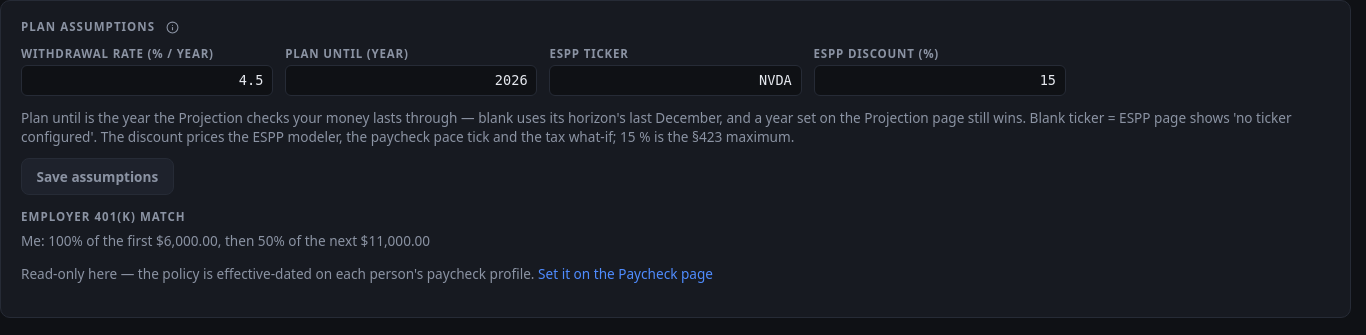
Test case: PlanAssumptionsCard › leaves a stored year alone when its box is untouched — even one the calendar has caught up with
Expected: the field labelled "Plan until (year)" is shown, [285, 65, 537, 96]
Replace the text in the field labelled "Withdrawal rate (% / year)" with "3.5" at (147, 80), box [21, 65, 273, 96]
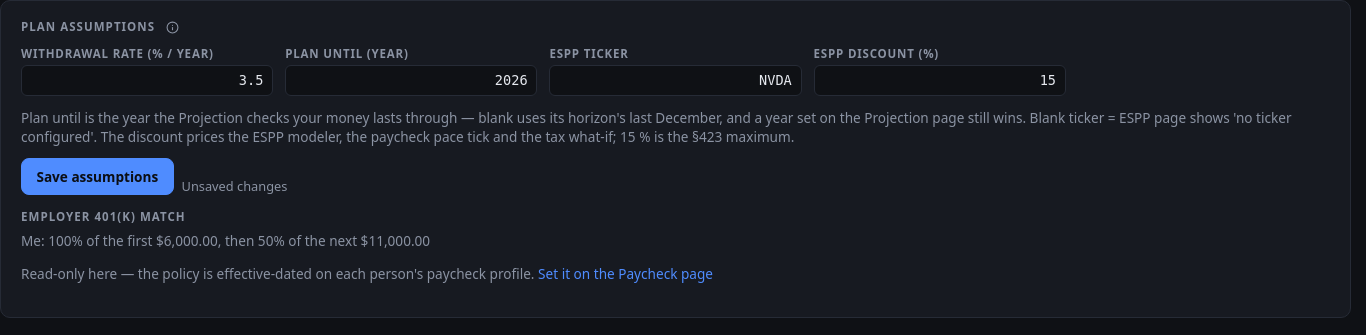
Click the button "Save assumptions" at (97, 176), box [21, 158, 174, 195]
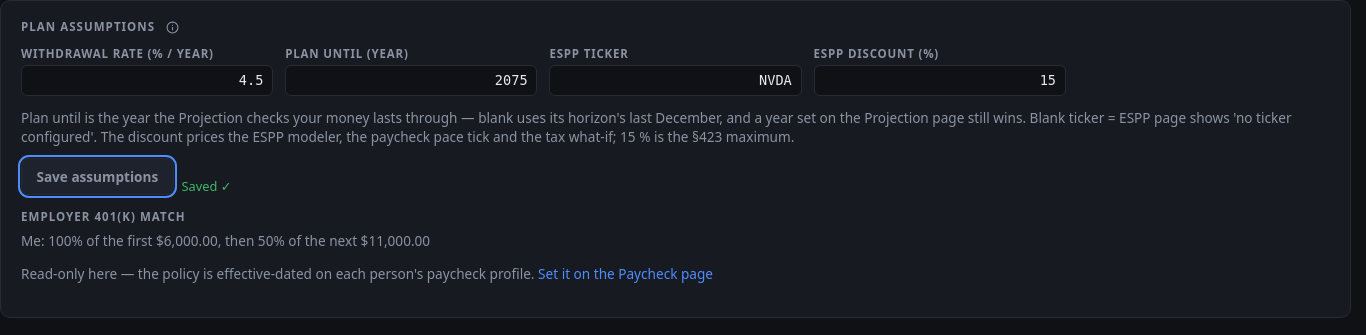
Now the text "Saved ✓" is shown, box [182, 178, 231, 195]
